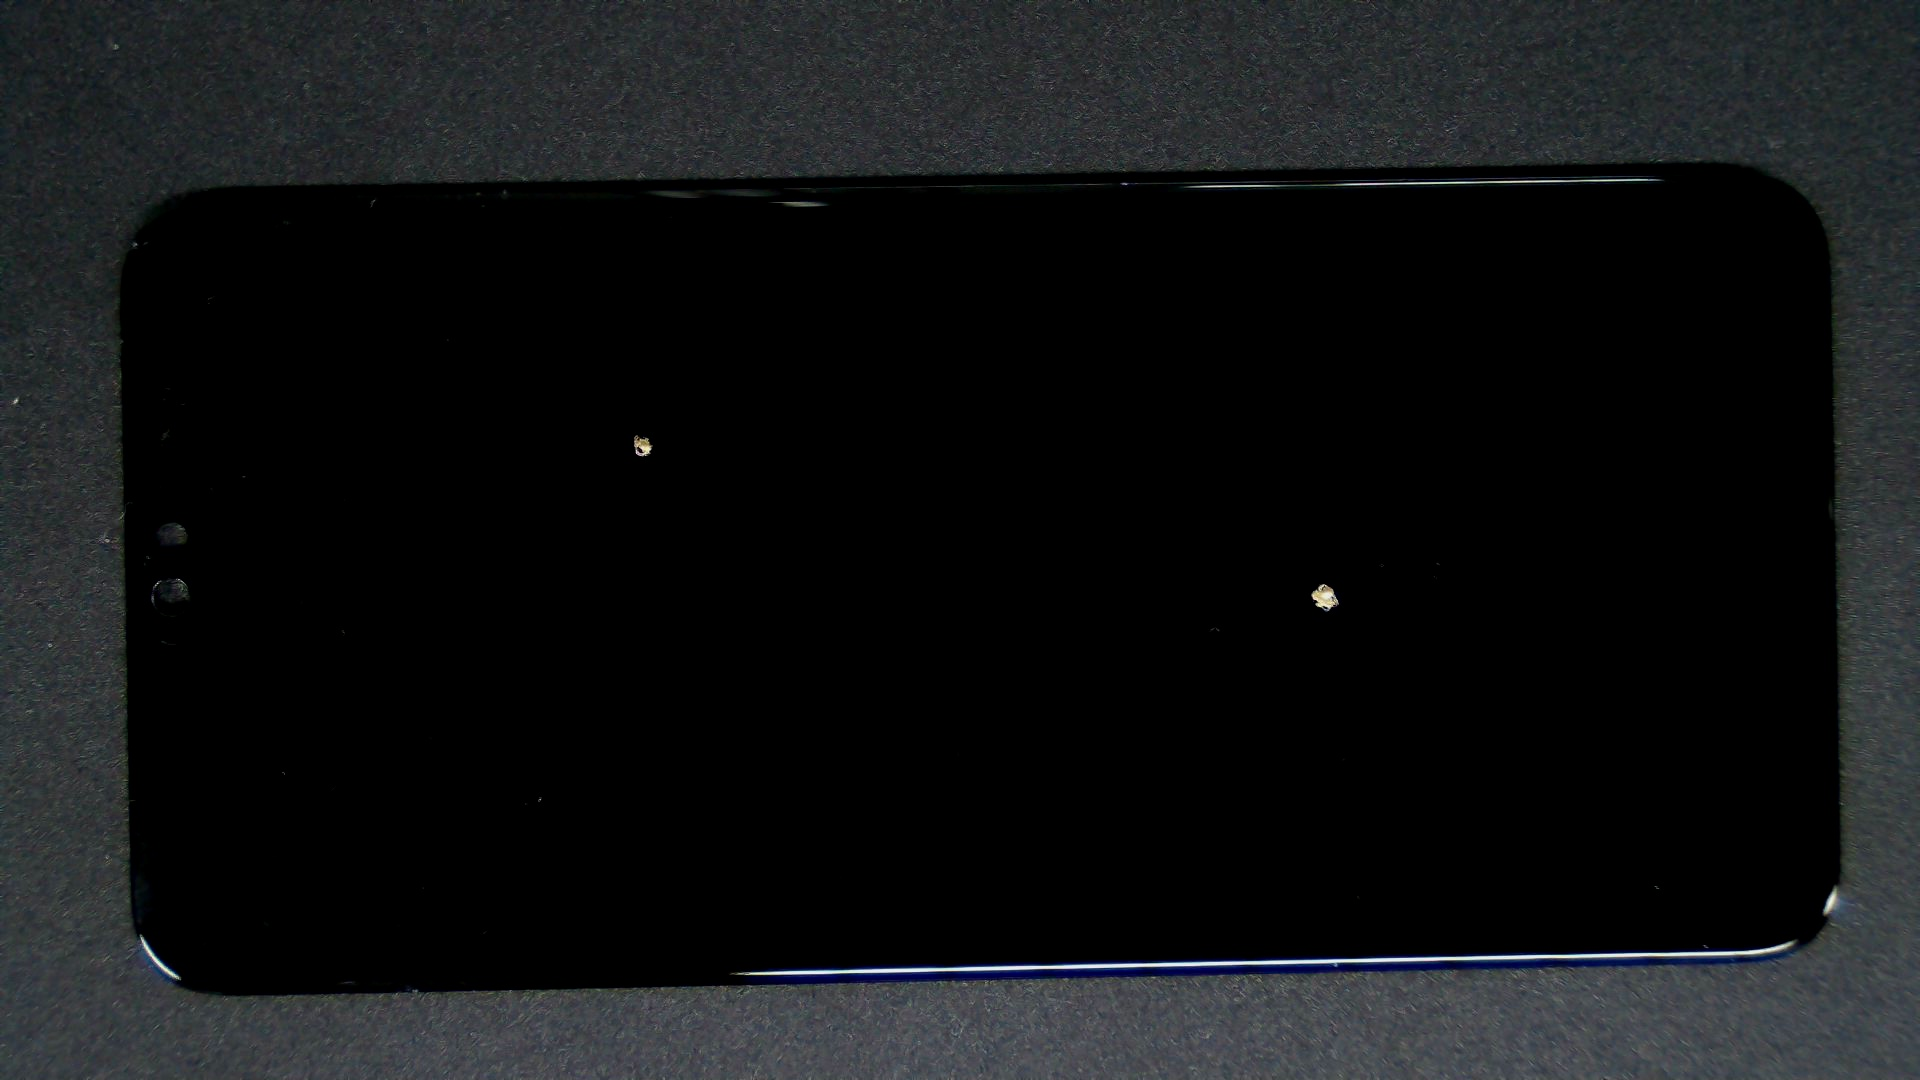oil: (662, 290, 1920, 873), (319, 215, 951, 651)
